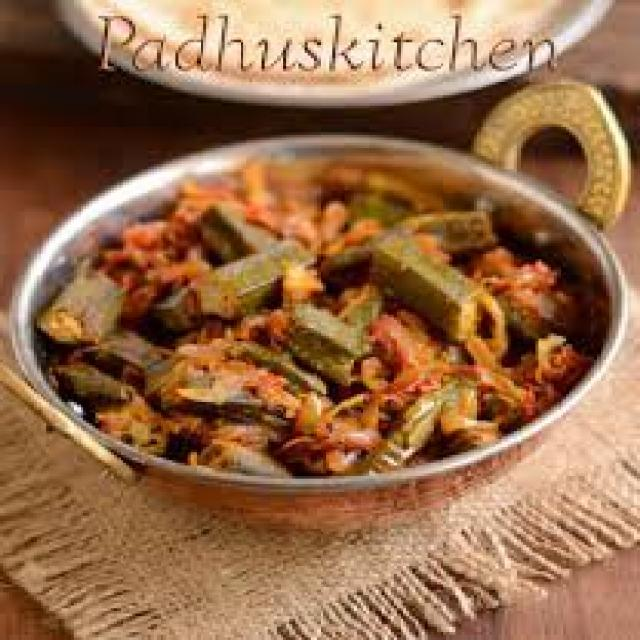Bhindi Masala: (36, 155, 595, 479)
